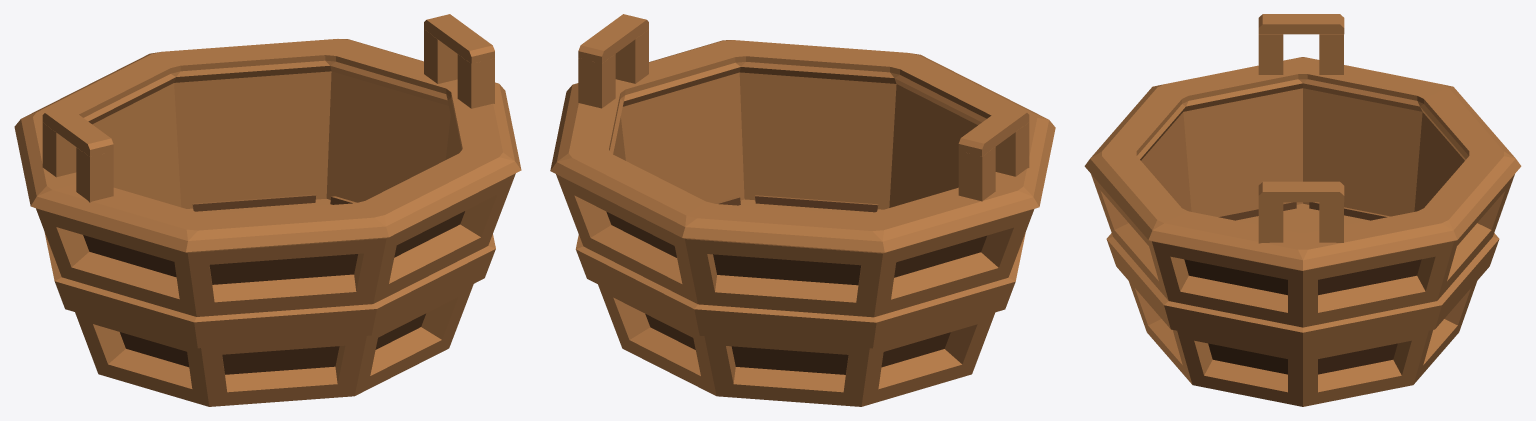
The model's file is BASKET.fbx.
3 views of the same model, side by side, from view 1: azimuth 30°, elevation 25°; view 2: azimuth 150°, elevation 25°; view 3: azimuth 270°, elevation 25° (orthographic). The views are drawn at different scales.
Parts seen in each view (by area): view 1: Cylinder.008; view 2: Cylinder.008; view 3: Cylinder.008.
Part boxes in pixels (x1,y1,x2,y2): Cylinder.008: (14,14,521,406); Cylinder.008: (550,14,1055,406); Cylinder.008: (1084,14,1521,406).
Bounding box in the file's own units: 1092 × 597 × 966.
